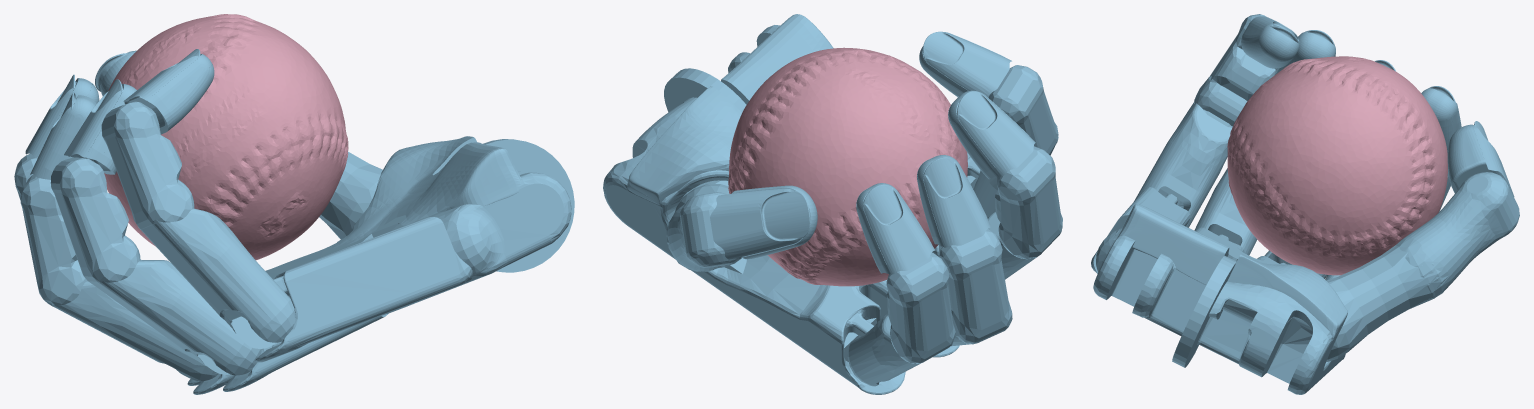
Rendered from Shadowhand_ycb+baseball_mesh.glb.
The picture shows the model from 3 angles, left to right: view 1: azimuth 30°, elevation 25°; view 2: azimuth 150°, elevation 25°; view 3: azimuth 270°, elevation 25°; orthographic projection. The views are drawn at different scales.
Parts seen in each view (by area): view 1: world; view 2: world; view 3: world.
Part boxes in pixels (<box>): world: <box>14,14,574,394</box>; world: <box>603,14,1062,394</box>; world: <box>1091,14,1519,394</box>.
Bounding box in the file's own units: 0.1549 × 0.1161 × 0.1412.
